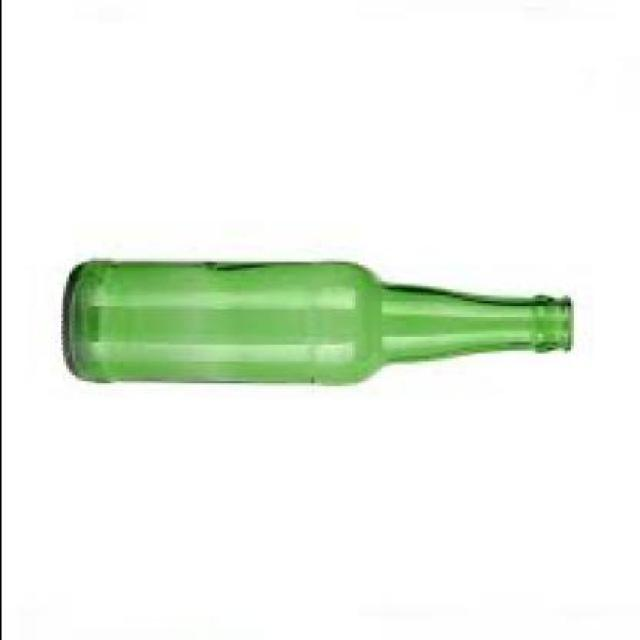GLASS: (64, 259, 576, 381)
